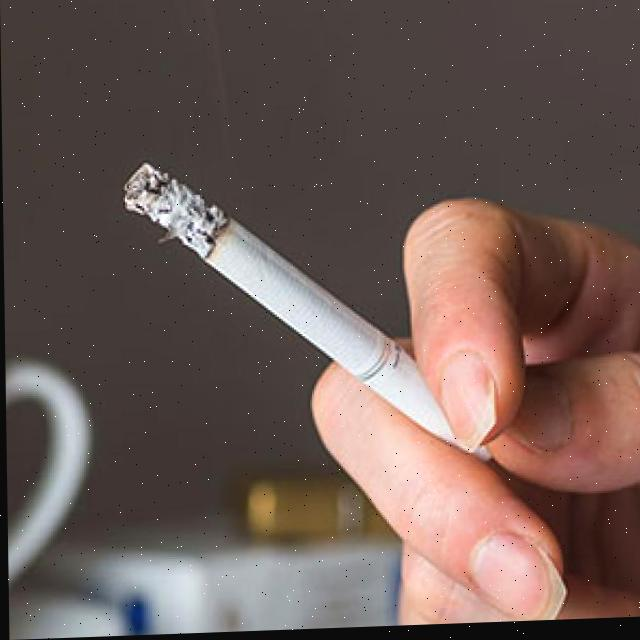cigarette: (123, 159, 491, 477)
